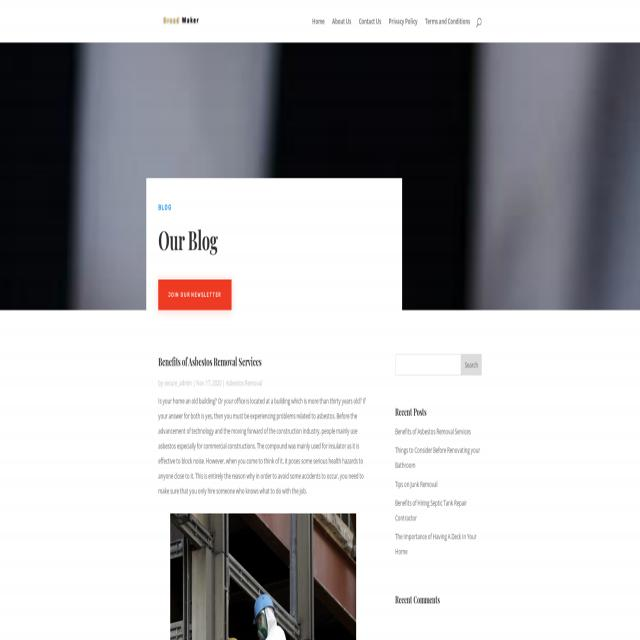button: (170, 512, 356, 640), (158, 280, 232, 310), (422, 12, 472, 37), (159, 10, 204, 33), (386, 12, 420, 37), (355, 11, 384, 36), (329, 12, 353, 37), (309, 12, 328, 36), (461, 354, 482, 375), (474, 12, 486, 34)
field: (395, 354, 482, 375)
